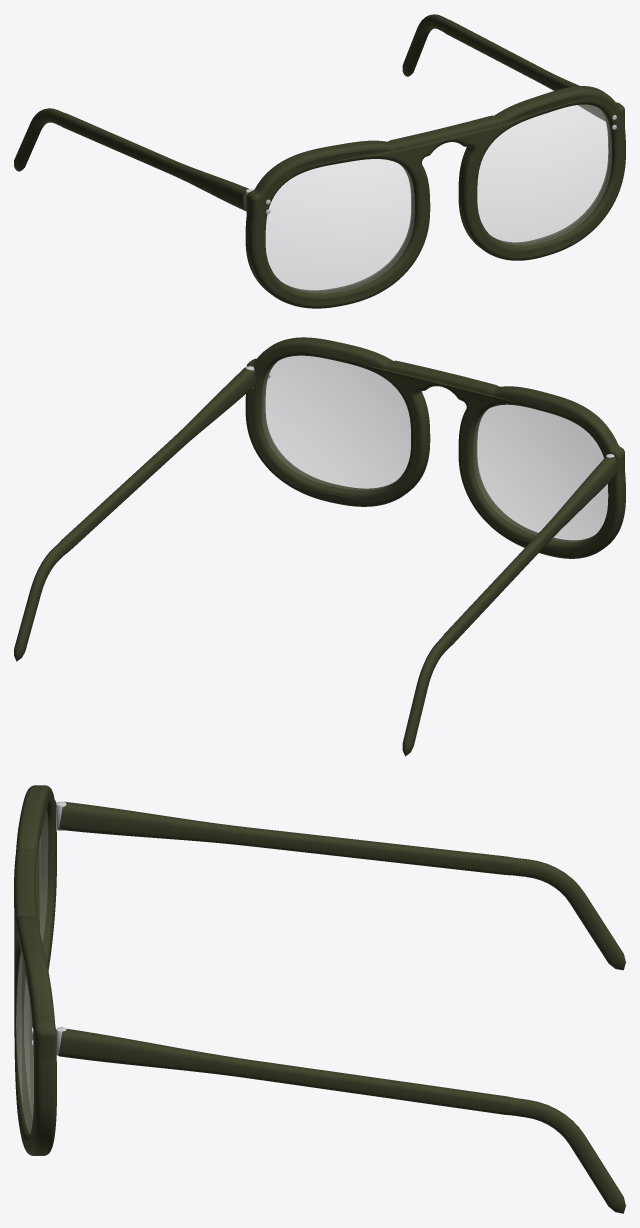
Rendered from theo-m.glb.
3 renders of one model, top to bottom at view 1: azimuth 30°, elevation 25°; view 2: azimuth 150°, elevation 25°; view 3: azimuth 270°, elevation 25°, orthographic. The views are drawn at different scales.
Parts seen in each view (by area): view 1: Front, Lens_R, Lens_L, Temple_R, Temple_L; view 2: Front, Lens_L, Lens_R, Temple_L, Temple_R; view 3: Front, Temple_L, Temple_R, Lens_L, Lens_R.
Part boxes in pixels (box(x1,y1,x2,y2)): Front: box(245, 86, 625, 308); Lens_R: box(266, 159, 414, 293); Lens_L: box(477, 105, 611, 245); Temple_R: box(14, 108, 248, 211); Temple_L: box(402, 14, 605, 121); Front: box(245, 337, 625, 558); Lens_L: box(262, 356, 410, 490); Lens_R: box(473, 405, 607, 542); Temple_L: box(14, 367, 255, 661); Temple_R: box(402, 457, 617, 756); Front: box(14, 785, 66, 1155); Temple_L: box(58, 1028, 625, 1213); Temple_R: box(59, 801, 625, 970); Lens_L: box(16, 953, 33, 1133); Lens_R: box(40, 810, 47, 942).
Bounding box in the file's own units: 0.1361 × 0.0559 × 0.1415.
